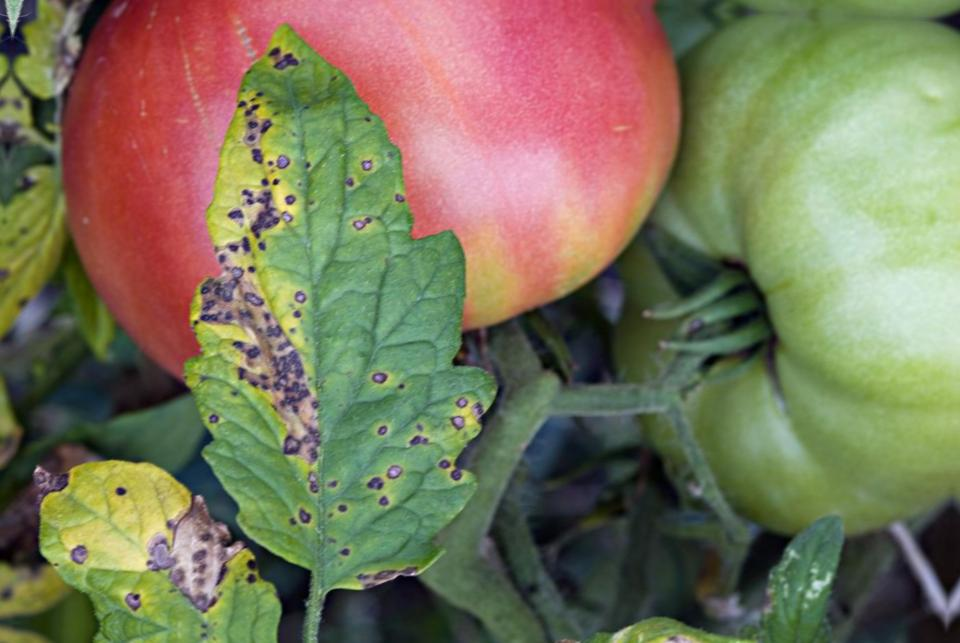Tomato Septoria leaf spot: (165, 27, 485, 601), (22, 453, 287, 631)
